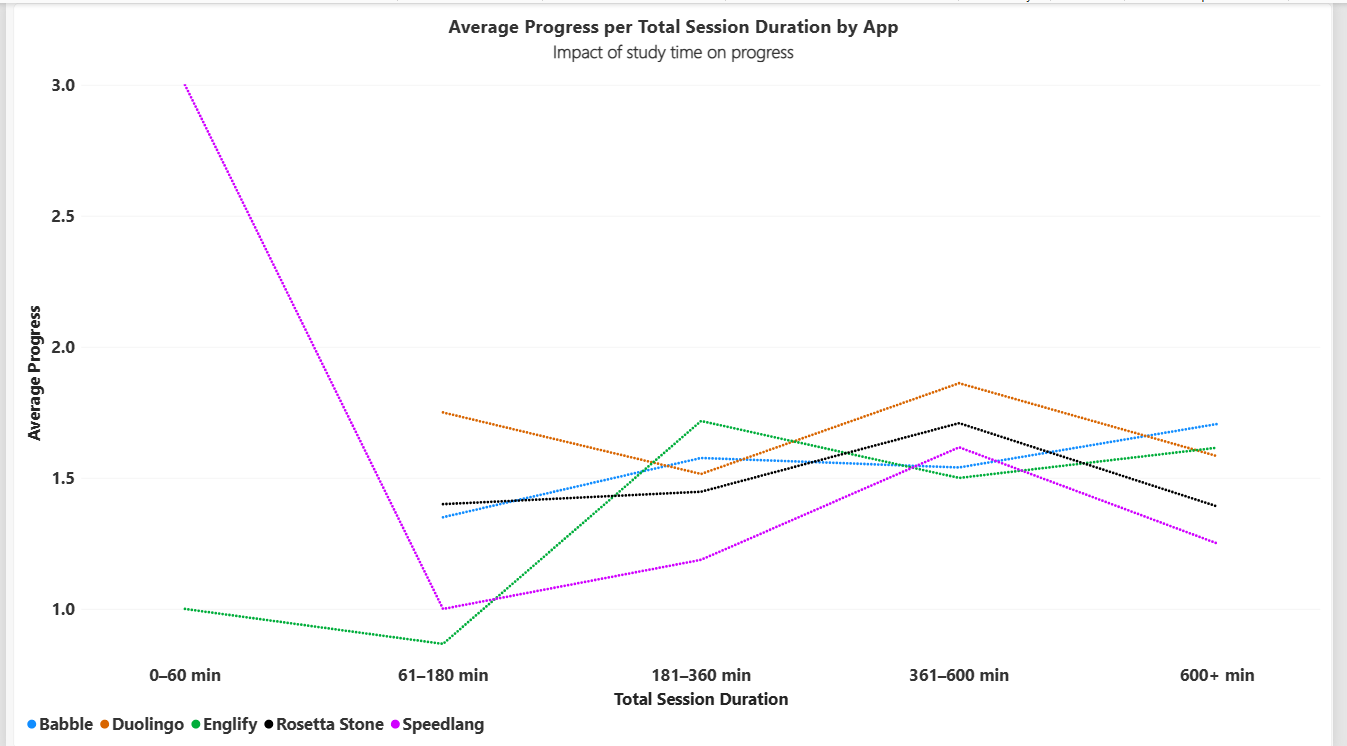

The page's visual inventory and layout, read from the dashboard file:
{"tool":"powerbi","page":{"name":"Progress by Session Duration","canvas":[1920,1080],"ordinal":3},"visuals":[{"type":"lineChart","title":"Average Progress per Total Session Duration by App","fields":{"Category":["Users.Duration Group"],"Series":["Apps Table.Apps Table"],"Y":["Measure Table.Average Progress"]},"box":[10.9,0,1909.2,1080.4],"z":0}]}

Visuals, with their boxes in screenshot pixels (x1, y1, x2, y2), scaled from the page's 1920x1080 canvas onto the 1347x746 screenshot:
"Average Progress per Total Session Duration by App" lineChart: box=[8, 0, 1346, 745]
